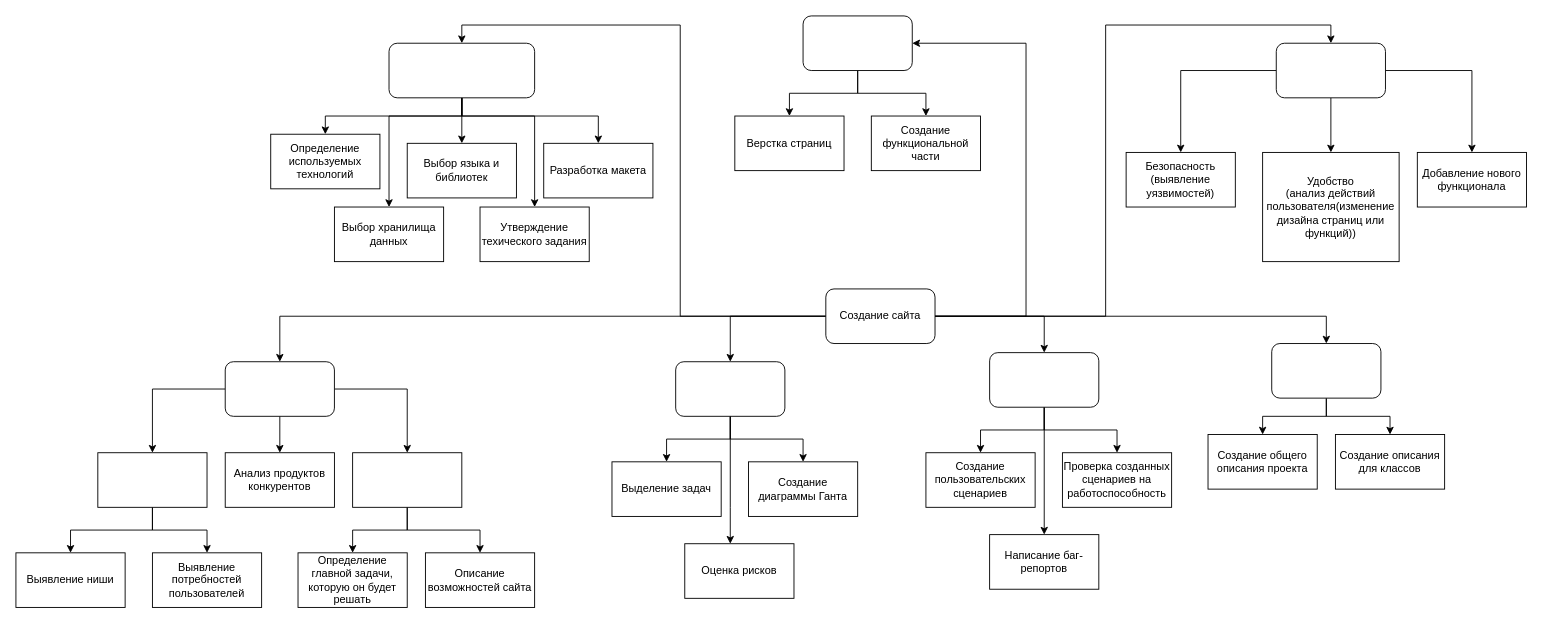
This 1542x623 diagram has some shape labels left out. The shapes that lost their labels are listed below. From the top down, each one's centre as x and y in pixels, then its label:
At point (857, 43): "Реализация".
At point (461, 70): "Разработка технического задания".
At point (1330, 70): "Поддержка".
At point (279, 388): "Разработка идеи".
At point (730, 388): "Составление плана проекта".
At point (1044, 379): "Тестирование".
At point (1326, 370): "Документирование".
At point (152, 479): "Анализ рынка".
At point (407, 479): "Создание описания сайта".
